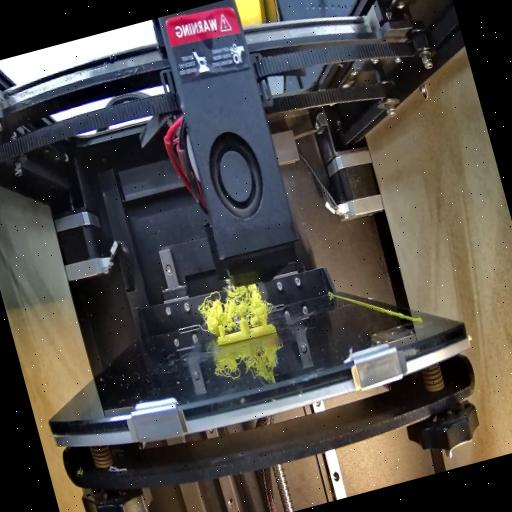spaghetti: (192, 270, 275, 341)
